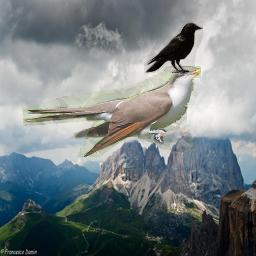Crow: (144, 21, 203, 75)
Cuckoo: (23, 66, 201, 157)
